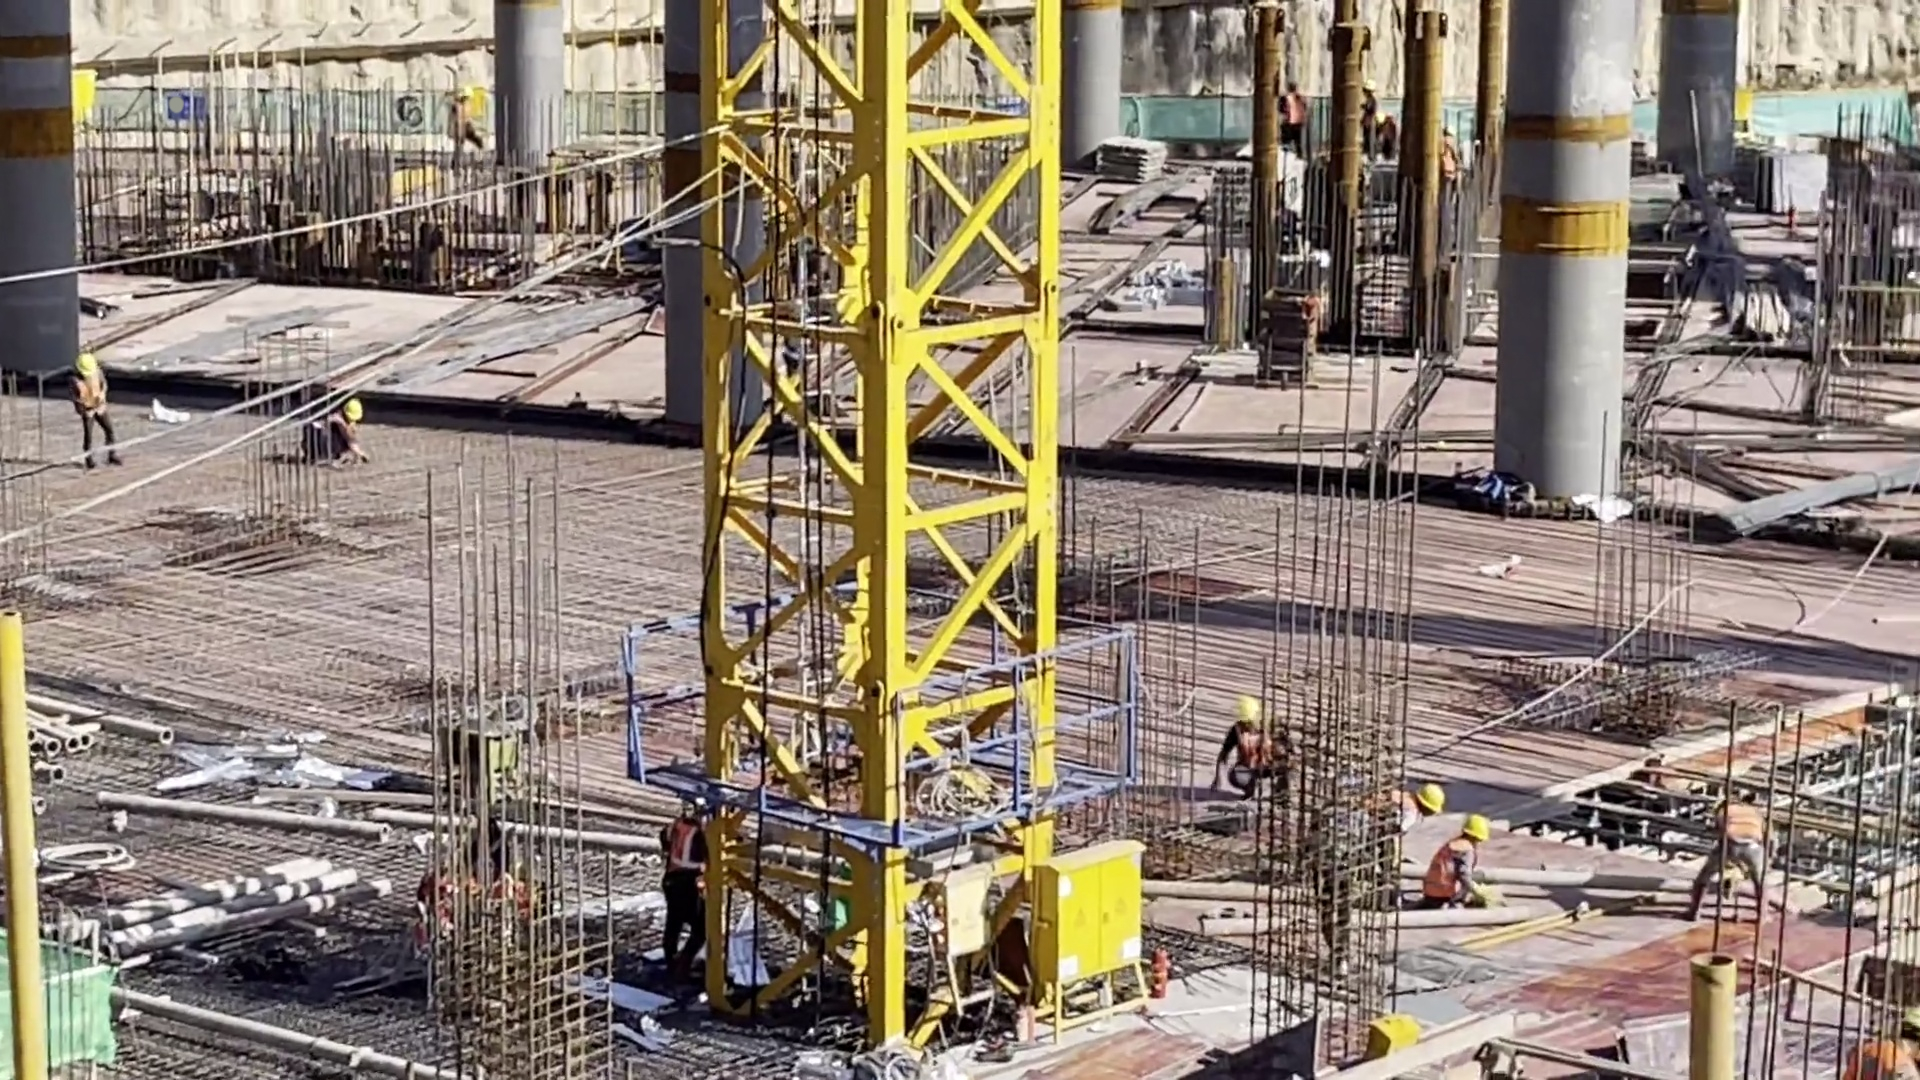helmet: (1415, 785, 1442, 815), (1462, 815, 1489, 841), (1231, 696, 1258, 723), (76, 355, 97, 377), (342, 400, 363, 421)
person: (648, 792, 715, 977), (1701, 793, 1767, 930), (1210, 699, 1297, 801), (71, 357, 121, 474), (1423, 814, 1485, 907), (1367, 786, 1441, 864), (1847, 1000, 1918, 1080), (302, 399, 367, 469), (450, 90, 481, 174), (1359, 81, 1378, 167), (1284, 79, 1307, 145)
vest: (1719, 796, 1767, 856), (1423, 850, 1465, 903), (71, 377, 102, 422), (667, 827, 698, 868), (1279, 93, 1306, 127)
